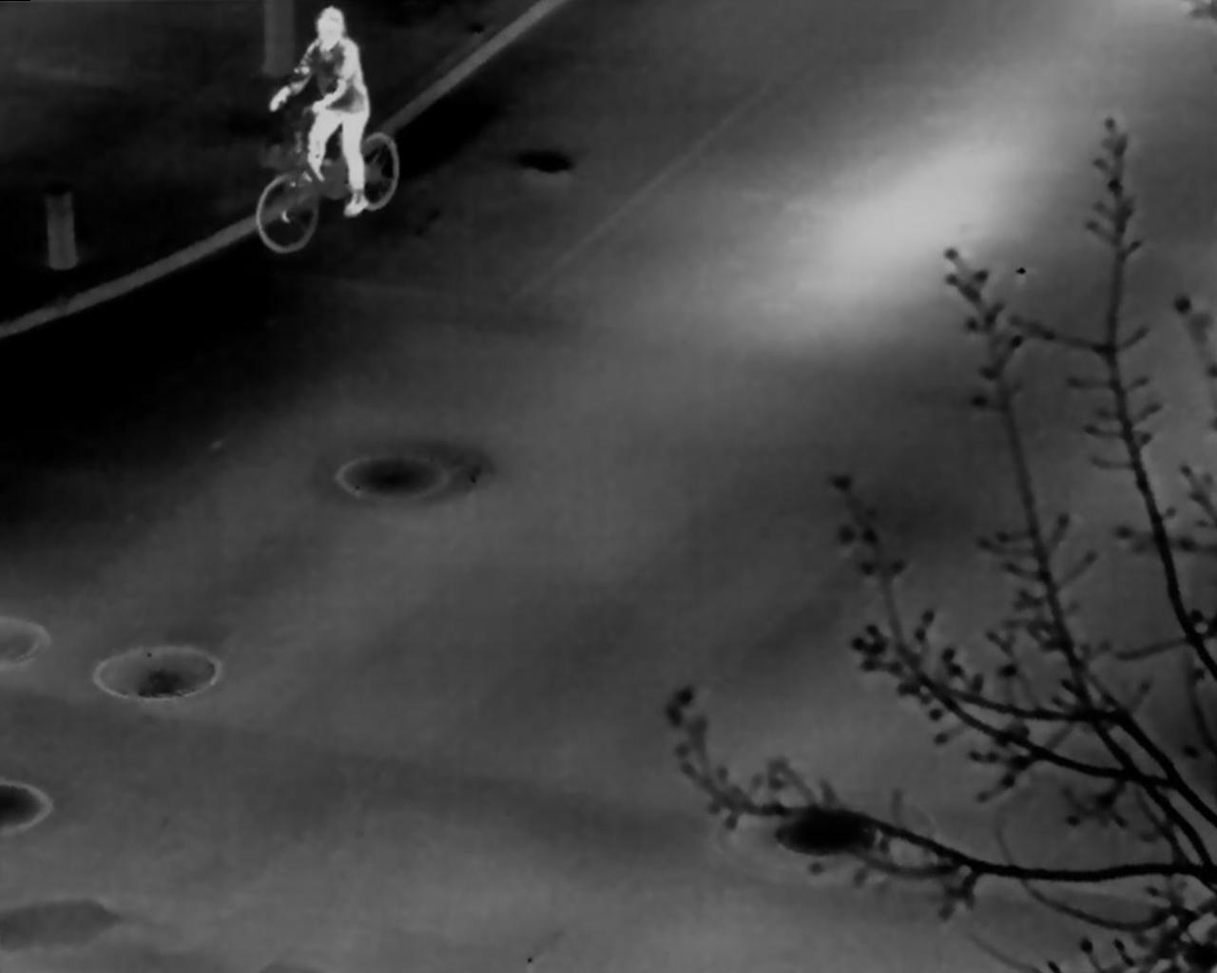person: (271, 3, 378, 210)
